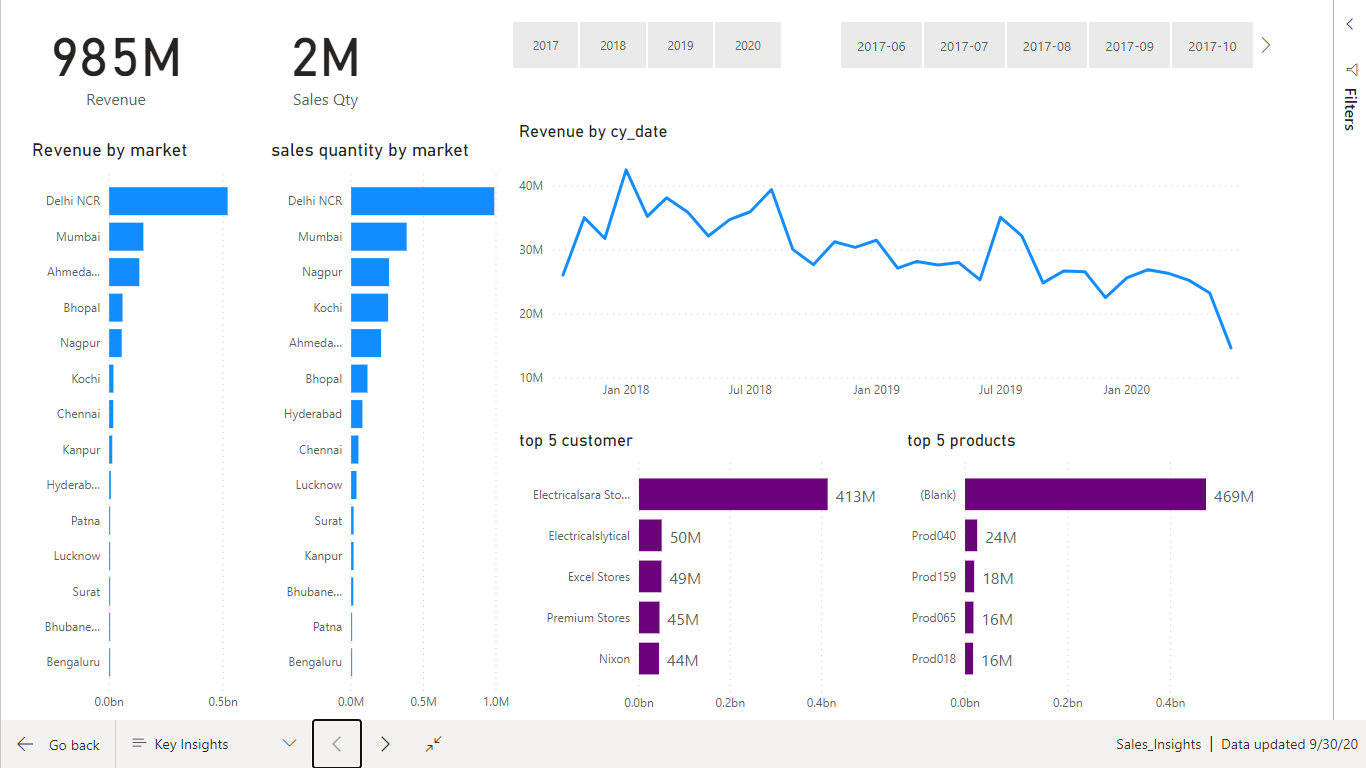

What the dashboard file says about the page in this screenshot:
{"tool":"powerbi","page":{"name":"Key Insights","canvas":[1280,720],"ordinal":0},"visuals":[{"type":"card","fields":{"Values":["Base Measures.Revenue"]},"box":[0,0,178.2,120.7],"z":0},{"type":"card","fields":{"Values":["Base Measures.Sales Qty"]},"box":[215.6,0,165.3,120.7],"z":1000},{"type":"clusteredBarChart","title":"Revenue by market","fields":{"Y":["Base Measures.Revenue"],"Category":["markets.markets_name"]},"box":[0,139.4,238.5,581.2],"z":2000},{"type":"clusteredBarChart","title":"sales quantity by market","fields":{"Y":["Base Measures.Sales Qty"],"Category":["markets.markets_name"]},"box":[238.5,139.4,248.6,581.2],"z":3000},{"type":"slicer","fields":{"Values":["Dates.year"]},"box":[460.3,15.1,317.5,60.5],"z":4000},{"type":"slicer","fields":{"Values":["Dates.cy_date"]},"box":[787.8,15.1,461.9,60.5],"z":5000},{"type":"lineChart","fields":{"Category":["Dates.cy_date"],"Y":["Base Measures.Revenue"]},"box":[487.2,120.7,745.9,287.4],"z":6000},{"type":"clusteredBarChart","title":"top 5 customer","fields":{"Category":["customer.custmer_name"],"Y":["Base Measures.Revenue"]},"box":[487.1,430,388,290.6],"z":7000},{"type":"clusteredBarChart","title":"top 5 products","fields":{"Category":["products.product_code"],"Y":["Base Measures.Revenue"]},"box":[875.2,430,374.6,290.6],"z":8000}]}

Visuals, with their boxes on the page's 1280x720 design canvas (x1, y1, x2, y2). These are canvas units, not pixel positions in the 1366x768 screenshot, which may show the page scaled, cropped or inside an application window:
card - Base Measures.Revenue: box=[0, 0, 178, 121]
card - Base Measures.Sales Qty: box=[216, 0, 381, 121]
"Revenue by market" clusteredBarChart: box=[0, 139, 238, 721]
"sales quantity by market" clusteredBarChart: box=[238, 139, 487, 721]
slicer - Dates.year: box=[460, 15, 778, 76]
slicer - Dates.cy_date: box=[788, 15, 1250, 76]
lineChart - Dates.cy_date x Base Measures.Revenue: box=[487, 121, 1233, 408]
"top 5 customer" clusteredBarChart: box=[487, 430, 875, 721]
"top 5 products" clusteredBarChart: box=[875, 430, 1250, 721]
